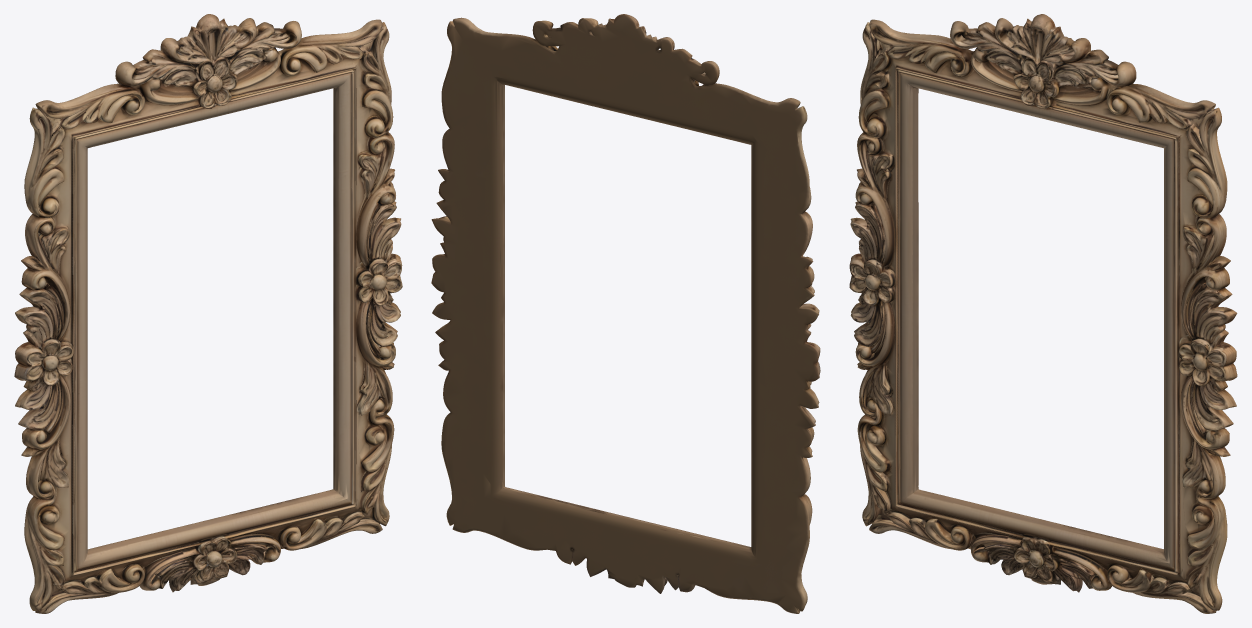
File: frame.fbx
3 views of the same model, side by side, from view 1: azimuth 30°, elevation 25°; view 2: azimuth 150°, elevation 25°; view 3: azimuth 330°, elevation 25° (orthographic).
Visible parts, largest first — view 1: frame; view 2: frame; view 3: frame.
Part boxes in pixels (x1,y1,x2,y2): frame: (14, 14, 402, 613); frame: (431, 14, 820, 613); frame: (849, 14, 1237, 613).
Size of the model in its own units: 541 by 762 by 25.12.
